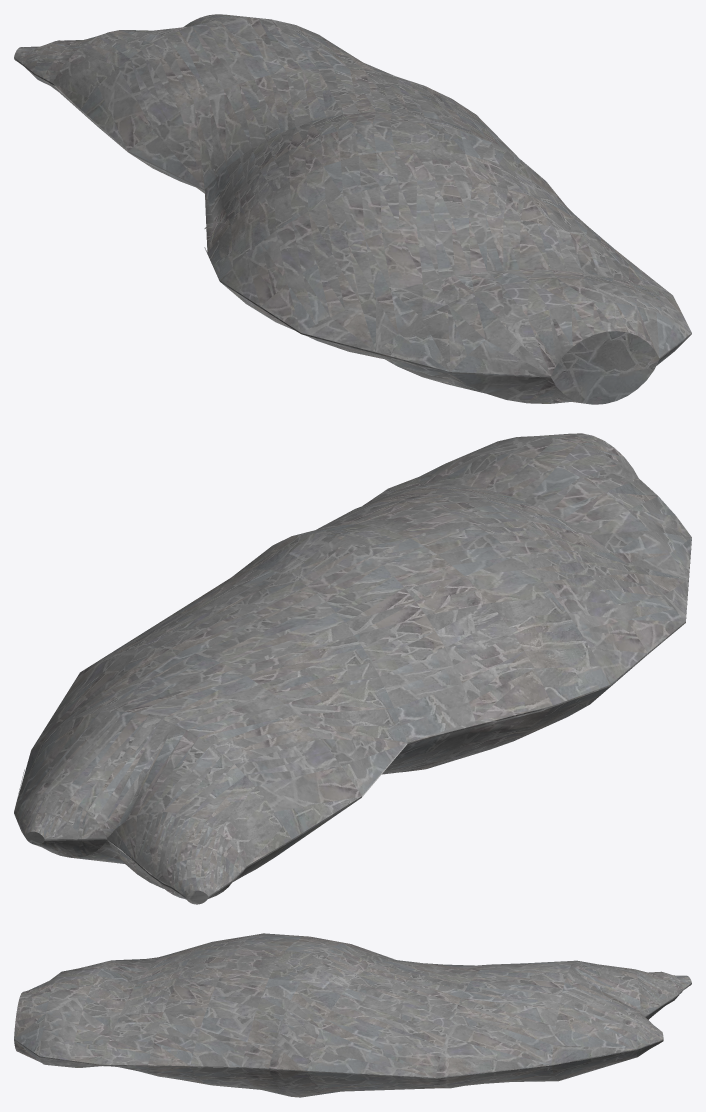
Rendered from piedra.glb.
The picture shows the model from 3 angles, top to bottom: view 1: azimuth 30°, elevation 25°; view 2: azimuth 150°, elevation 25°; view 3: azimuth 270°, elevation 25°; orthographic projection. The views are drawn at different scales.
Parts seen in each view (by area): view 1: Root Node; view 2: Root Node; view 3: Root Node.
Boxes of the visible parts, left/top/right/bottom form: Root Node: left=14, top=14, right=691, bottom=404; Root Node: left=14, top=433, right=691, bottom=904; Root Node: left=14, top=933, right=691, bottom=1097.
Bounding box in the file's own units: 3.63 × 1.77 × 8.24.
Materials: 4 (2 with a texture image).
